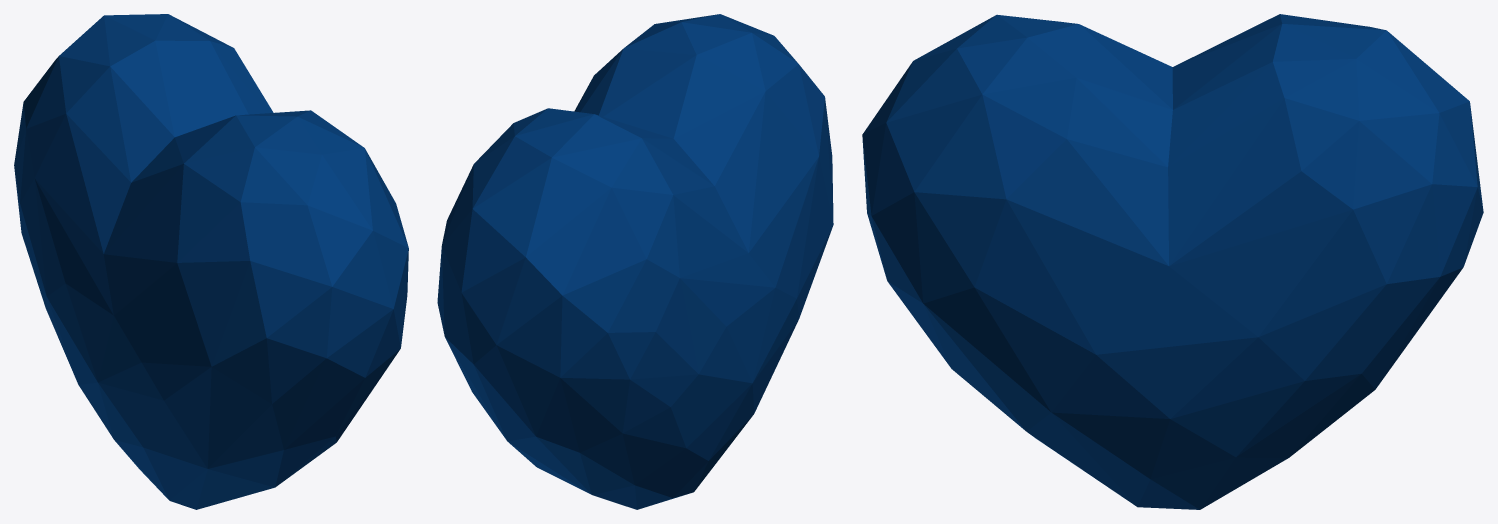
File: heart_blue.fbx
3 views of the same model, side by side, from view 1: azimuth 30°, elevation 25°; view 2: azimuth 150°, elevation 25°; view 3: azimuth 270°, elevation 25° (orthographic). The views are drawn at different scales.
Visible parts, largest first — view 1: Love; view 2: Love; view 3: Love.
Boxes of the visible parts, bbox=[...] form: Love: bbox=[14, 14, 408, 509]; Love: bbox=[437, 14, 833, 509]; Love: bbox=[862, 14, 1483, 509].
Size of the model in its own units: 64.86 by 110 by 132.
